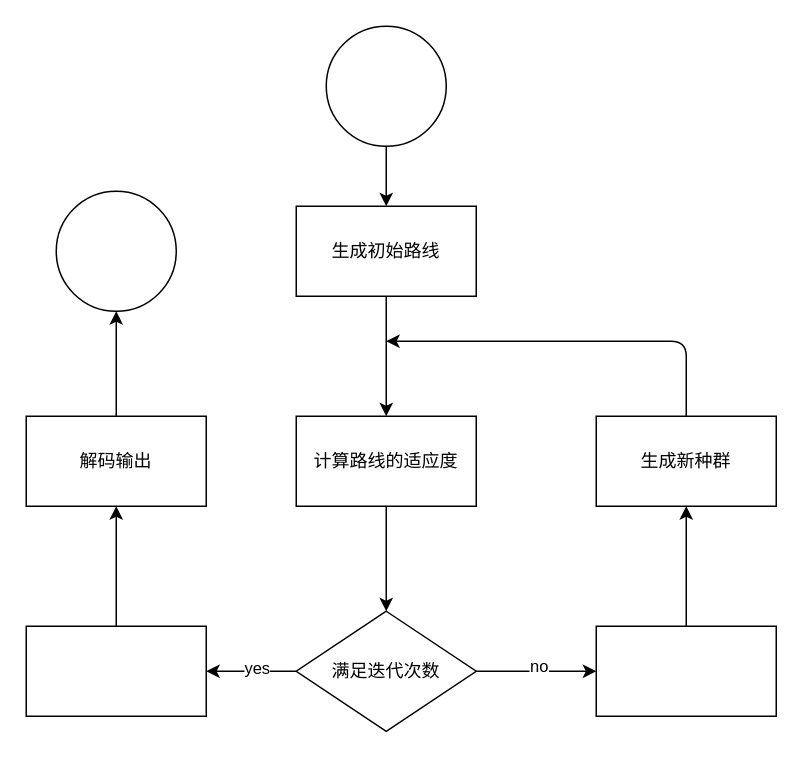
The diagram is 803 pixels wide and 758 high, and some of its shapes have lost their labels. Here are the shapes that lost their labels. From the top down, the centre of each, then its label:
At (385,85): "开始".
At (115,670): "确定最优路线".
At (685,670): "选择、交叉、变异".
